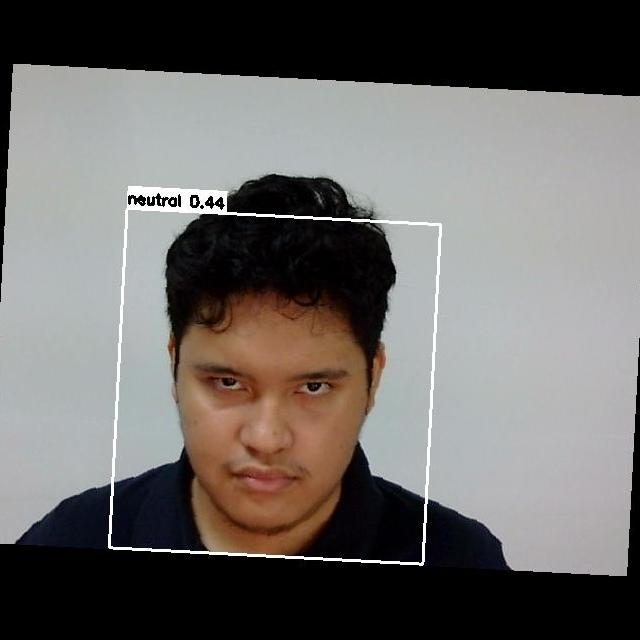Angry: (180, 337, 359, 480)
